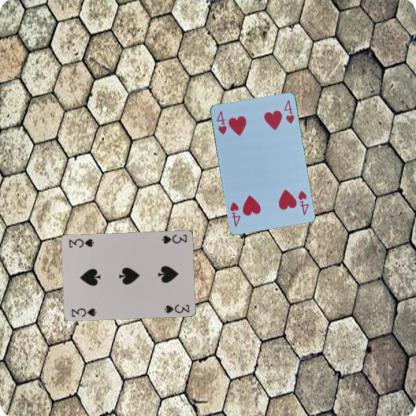3s: (160, 232, 188, 244), (70, 306, 98, 317)
4h: (213, 108, 228, 136), (295, 188, 310, 216)
